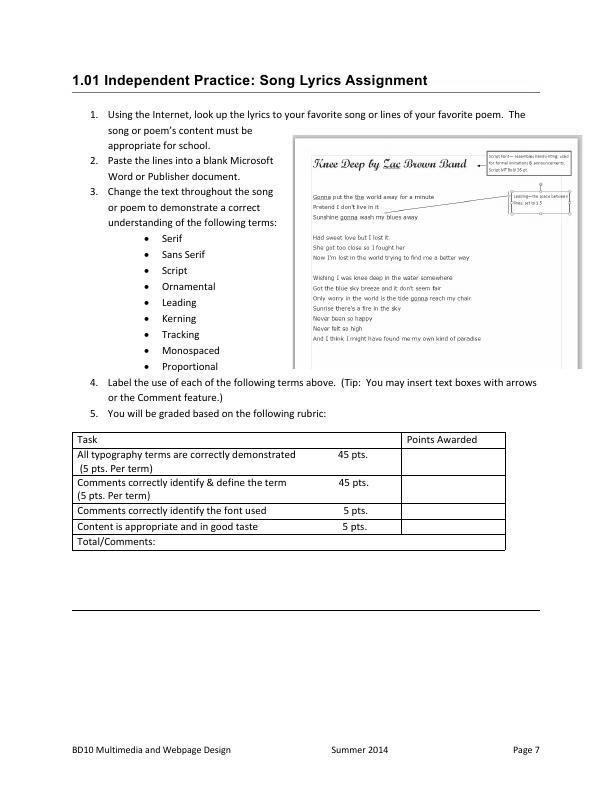table: (68, 429, 513, 556)
text: (86, 152, 280, 373), (84, 376, 543, 424), (83, 106, 532, 135), (69, 71, 431, 91), (107, 138, 216, 152)
